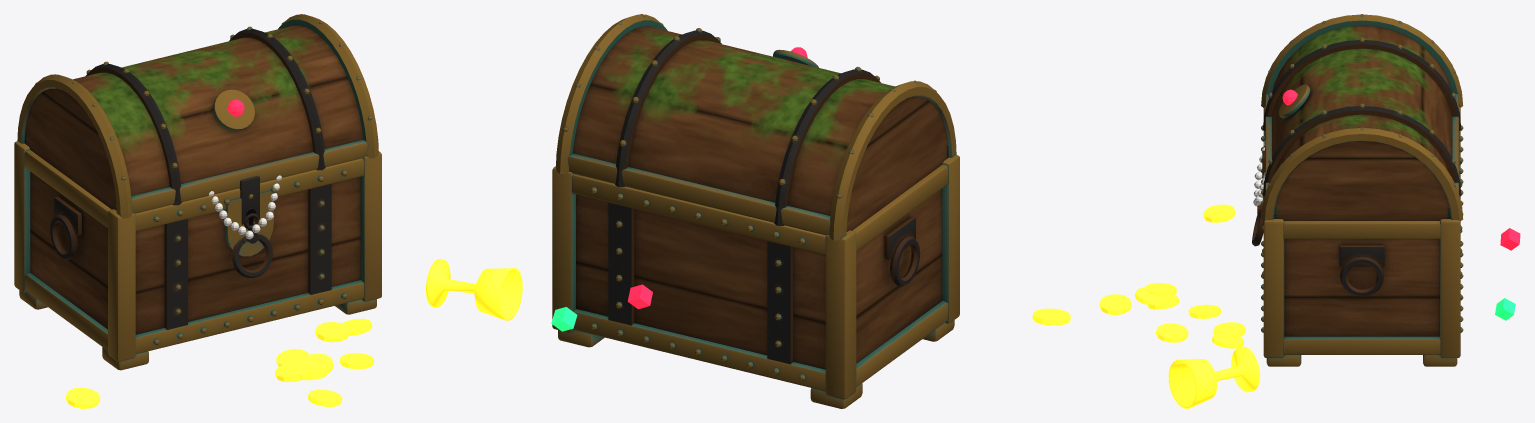
The model's file is chest.glb.
3 renders of one model, left to right at view 1: azimuth 30°, elevation 25°; view 2: azimuth 150°, elevation 25°; view 3: azimuth 270°, elevation 25°, orthographic. The views are drawn at different scales.
Visible parts, largest first — view 1: Chest, Lid, GlowGold, Pearls; view 2: Chest, Lid, GlowGems, GlowGold; view 3: Lid, Chest, GlowGold, GlowGems.
Part boxes in pixels (bbox=[...]): Chest: bbox=[14, 141, 381, 370]; Lid: bbox=[17, 14, 378, 228]; GlowGold: bbox=[66, 259, 522, 408]; Pearls: bbox=[208, 175, 281, 239]; Chest: bbox=[552, 155, 959, 408]; Lid: bbox=[556, 14, 956, 240]; GlowGems: bbox=[551, 47, 807, 331]; GlowGold: bbox=[1032, 308, 1070, 325]; Lid: bbox=[1261, 14, 1463, 221]; Chest: bbox=[1252, 107, 1463, 366]; GlowGold: bbox=[1099, 204, 1260, 408]; GlowGems: bbox=[1282, 89, 1520, 320].
Size of the model in its own units: 1.05 by 0.5751 by 0.9163.
7 materials, 2 textured.
